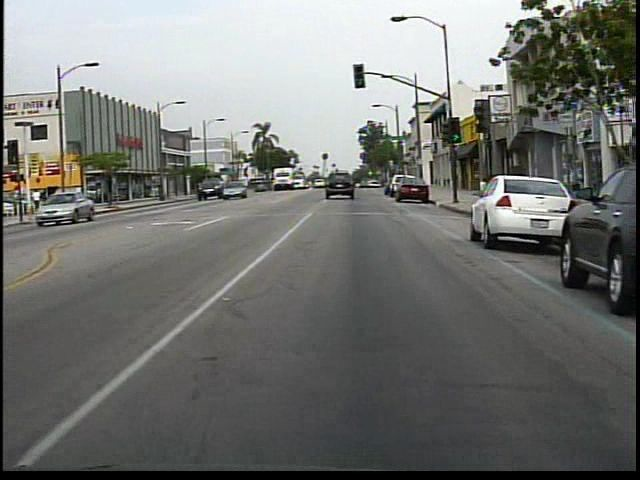person: (34, 184, 45, 213)
